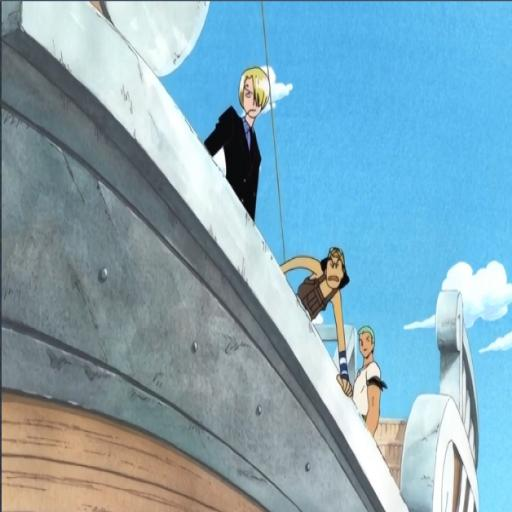Usopp: (279, 206, 355, 397)
Zoro: (346, 324, 384, 436)
sanji: (206, 56, 276, 230)
